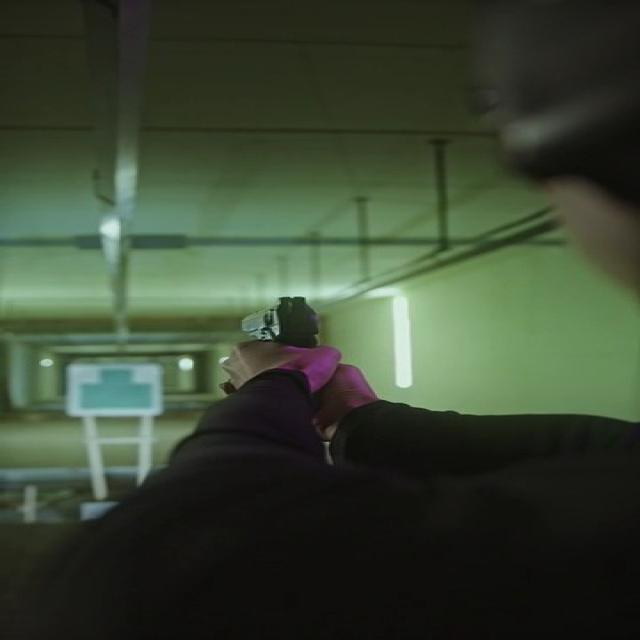Gun_Holder: (166, 286, 430, 467)
